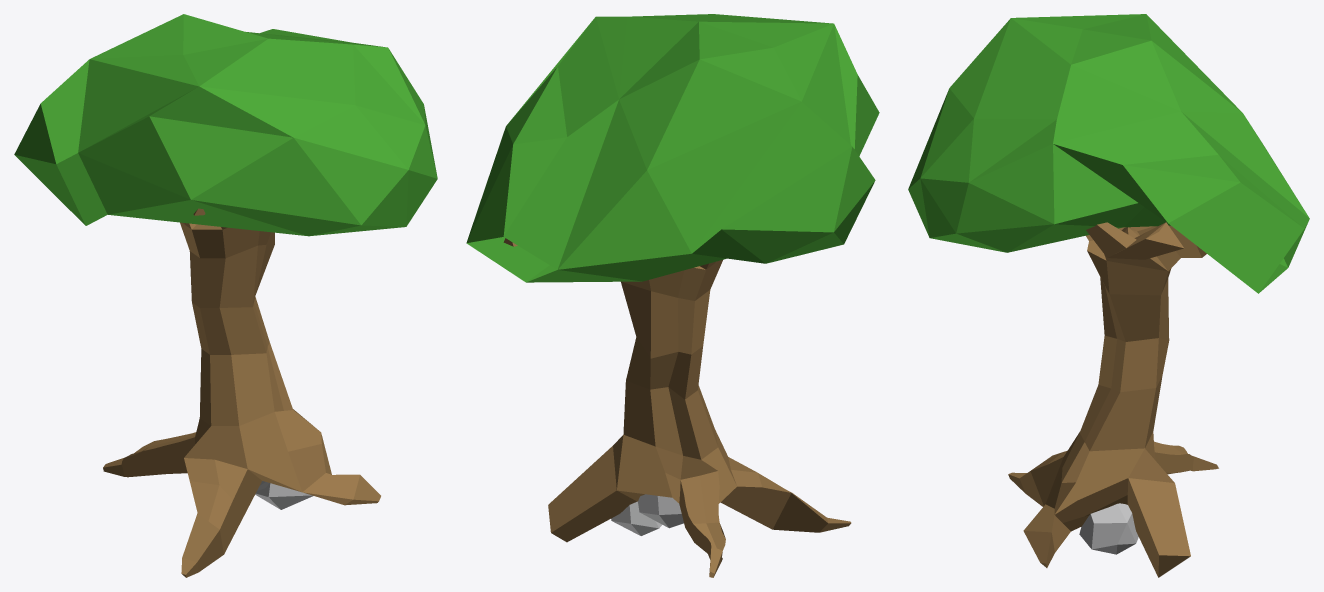
File: Tree.fbx
3 renders of one model, left to right at view 1: azimuth 30°, elevation 25°; view 2: azimuth 150°, elevation 25°; view 3: azimuth 270°, elevation 25°, orthographic. The views are drawn at different scales.
Parts seen in each view (by area): view 1: Sphere, Tree Trunk, Rock; view 2: Sphere, Tree Trunk, Rock 1, Rock; view 3: Sphere, Tree Trunk, Rock.
Boxes of the visible parts, box(x1,y1,x2,y2) form: Sphere: box(14, 14, 437, 236); Tree Trunk: box(103, 208, 380, 577); Rock: box(255, 483, 313, 509); Sphere: box(466, 14, 879, 282); Tree Trunk: box(503, 238, 851, 577); Rock 1: box(638, 494, 683, 528); Rock: box(611, 501, 661, 535); Sphere: box(908, 14, 1309, 293); Tree Trunk: box(1008, 222, 1218, 577); Rock: box(1079, 503, 1138, 554).
Size of the model in its own units: 286 by 402 by 306.
